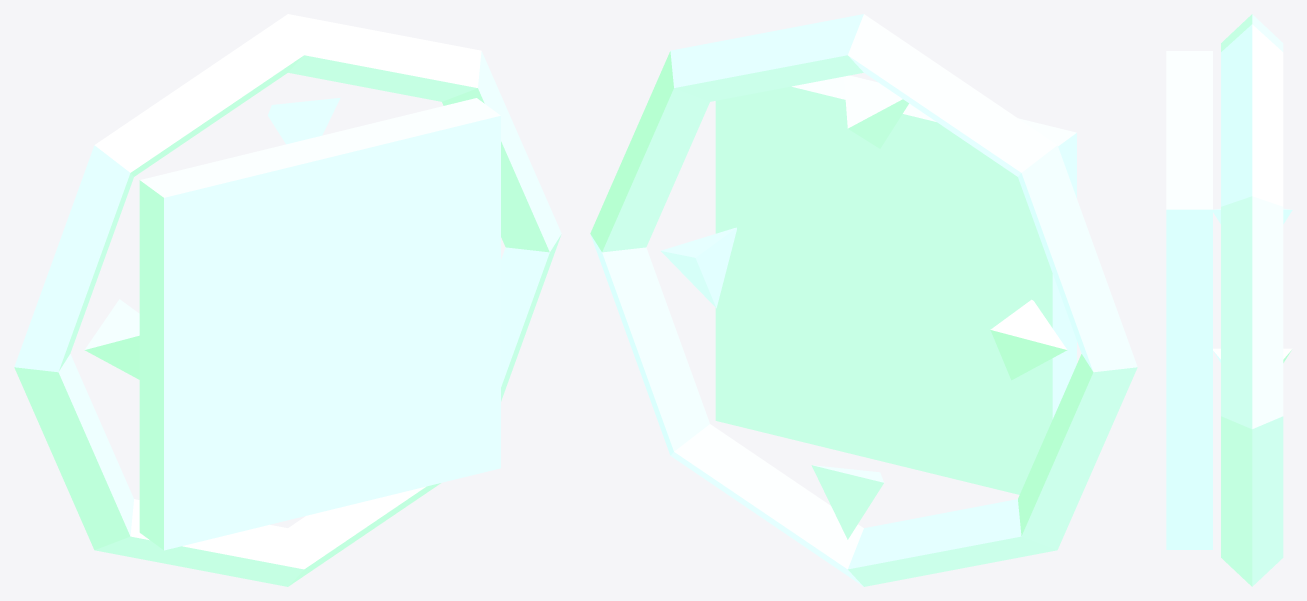
The model's file is tile_spawn.glb.
The picture shows the model from 3 angles, left to right: view 1: azimuth 30°, elevation 25°; view 2: azimuth 150°, elevation 25°; view 3: azimuth 270°, elevation 25°; orthographic projection. The views are drawn at different scales.
Parts seen in each view (by area): view 1: tile_spawn; view 2: tile_spawn; view 3: tile_spawn.
Part boxes in pixels (x1,y1,x2,y2): tile_spawn: (14, 14, 561, 586); tile_spawn: (590, 14, 1137, 586); tile_spawn: (1166, 14, 1292, 586).
Bounding box in the file's own units: 0.78 × 0.78 × 0.162.
